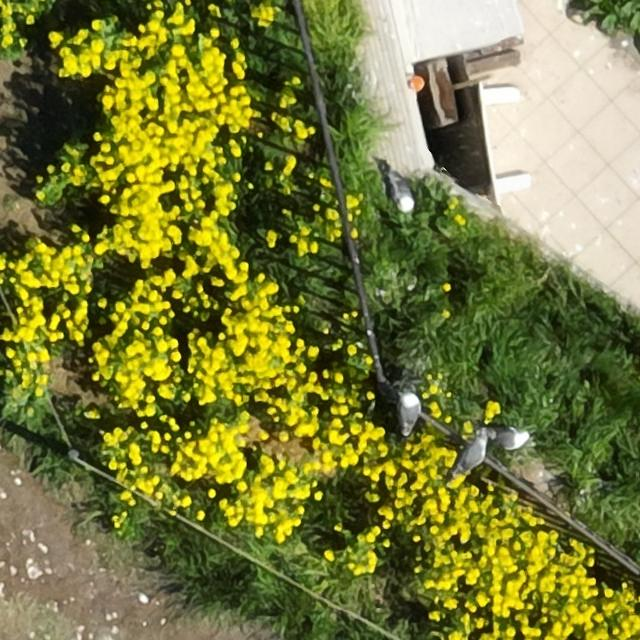umineko: (457, 437, 488, 470), (492, 429, 529, 449), (392, 180, 415, 212), (400, 394, 420, 430)
